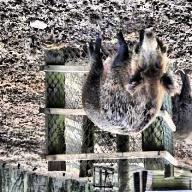boar: (77, 22, 174, 135)
